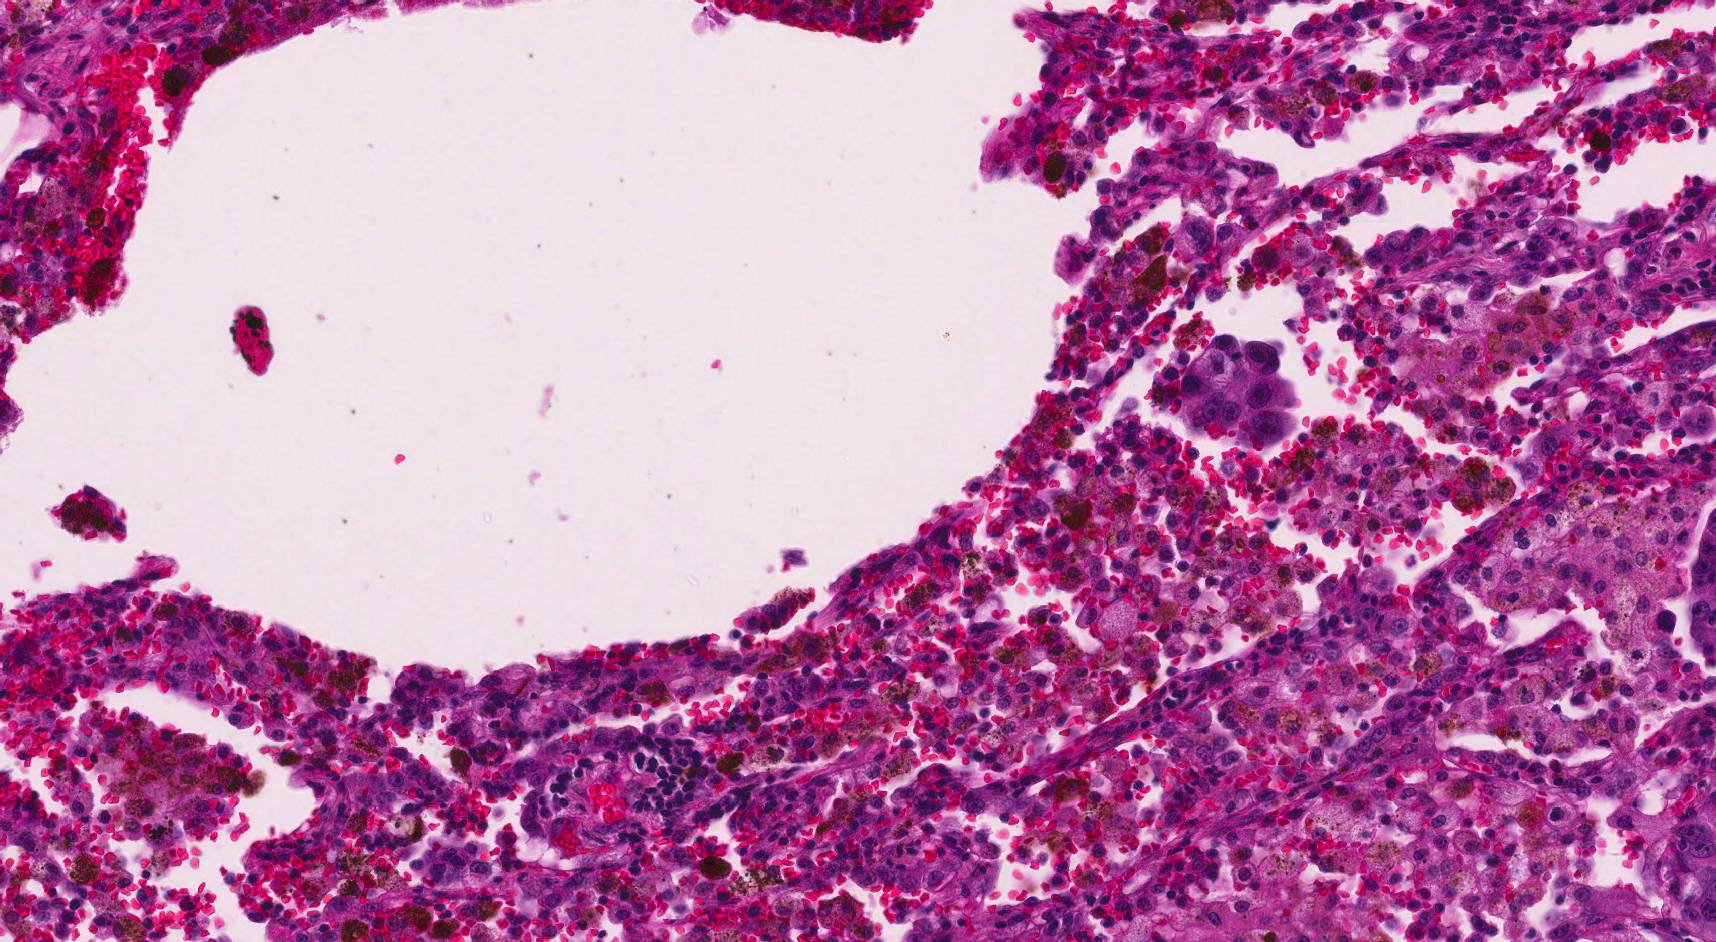stas: (1178, 331, 1298, 449)
